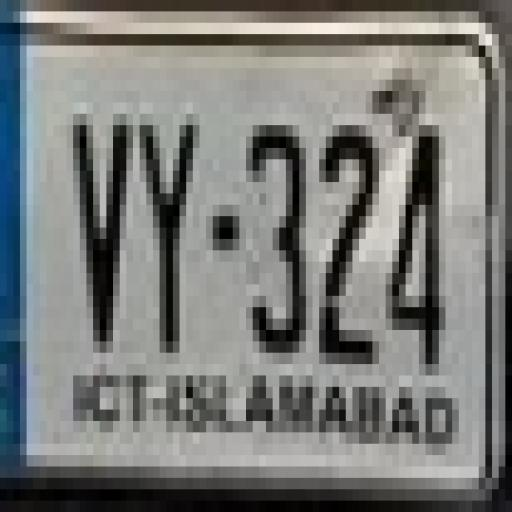2: (310, 121, 380, 368)
3: (253, 116, 303, 347)
4: (381, 129, 449, 370)
V: (68, 113, 133, 351)
Y: (140, 112, 196, 361)
